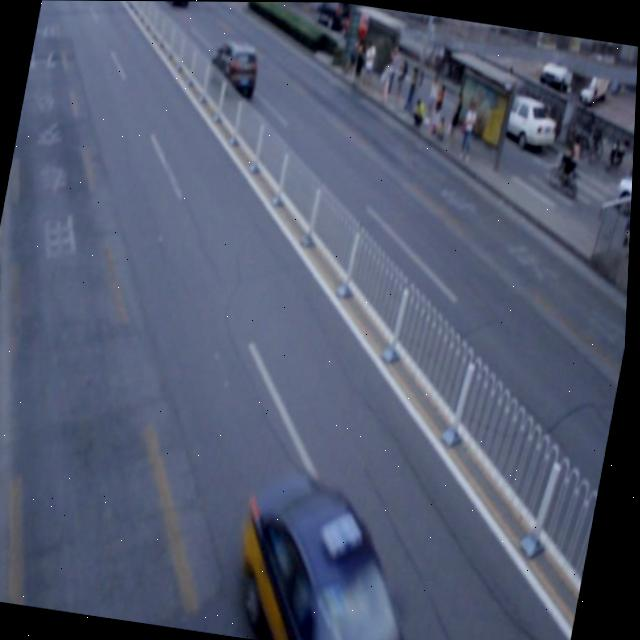car: (232, 470, 447, 640), (202, 34, 263, 107)
